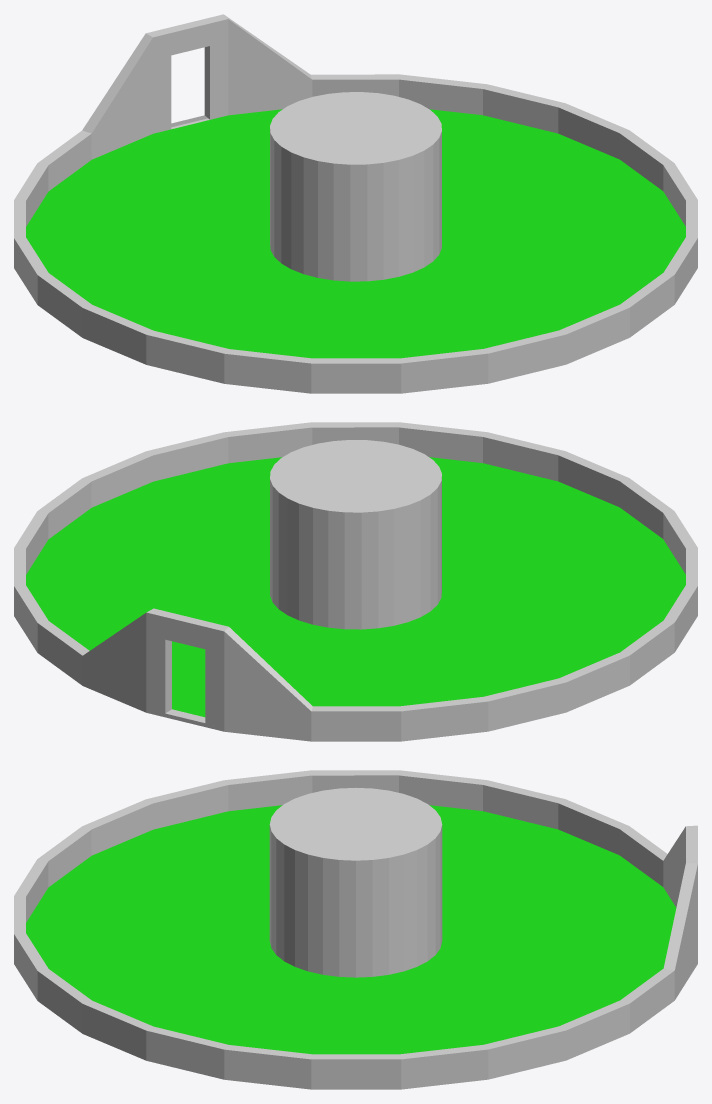
File: garden_prop.gltf
3 views of the same model, one above another, from view 1: azimuth 30°, elevation 25°; view 2: azimuth 150°, elevation 25°; view 3: azimuth 270°, elevation 25° (orthographic).
Parts seen in each view (by area): view 1: Cylinder, Cylinder.001; view 2: Cylinder, Cylinder.001; view 3: Cylinder, Cylinder.001.
Part boxes in pixels (<box>): Cylinder: <box>14,14,697,393</box>; Cylinder.001: <box>270,92,441,281</box>; Cylinder: <box>14,422,697,741</box>; Cylinder.001: <box>270,440,441,629</box>; Cylinder: <box>14,770,697,1089</box>; Cylinder.001: <box>269,788,442,977</box>.
Size of the model in its own units: 15.87 by 3.09 by 15.87.
